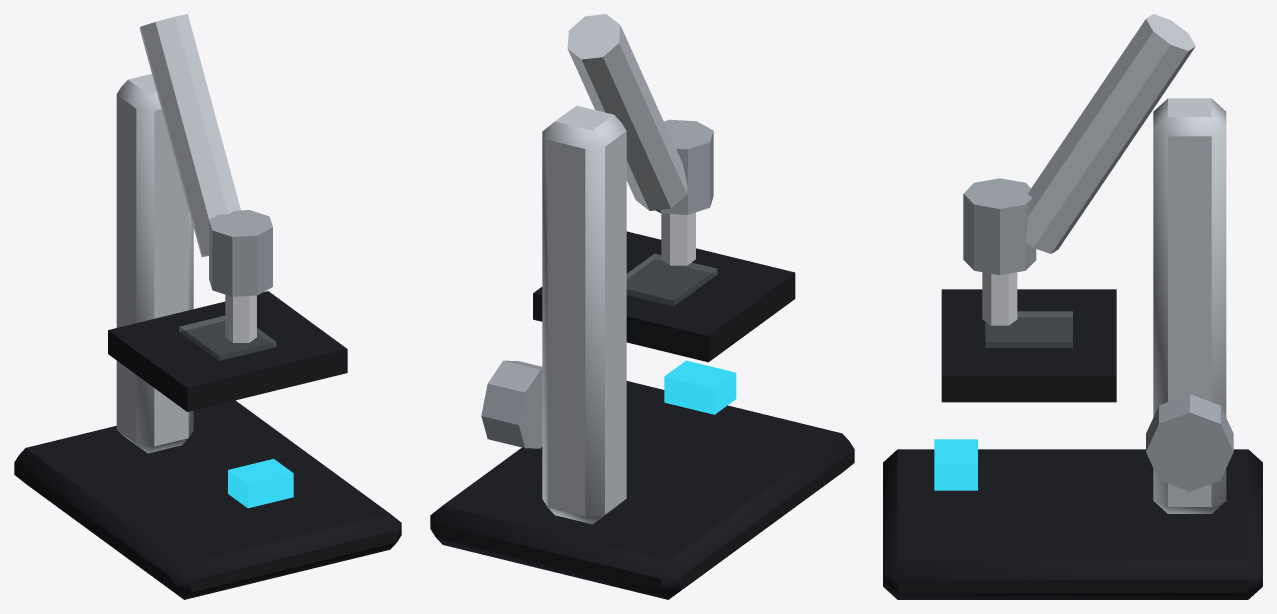
File: medtool_compact_microscope.glb
3 views of the same model, side by side, from view 1: azimuth 30°, elevation 25°; view 2: azimuth 150°, elevation 25°; view 3: azimuth 270°, elevation 25° (orthographic). The views are drawn at different scales.
Visible parts, largest first — view 1: medtool_compact_microscope; view 2: medtool_compact_microscope; view 3: medtool_compact_microscope.
Boxes of the visible parts, bbox=[...] form: medtool_compact_microscope: bbox=[14, 14, 401, 599]; medtool_compact_microscope: bbox=[430, 14, 854, 599]; medtool_compact_microscope: bbox=[883, 14, 1262, 599].
Bounding box in the file's own units: 0.2 × 0.3972 × 0.26.
